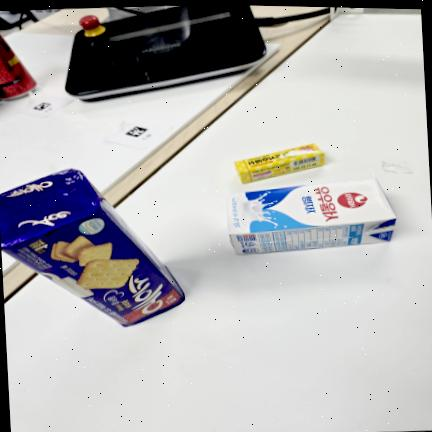cracker_ace: (0, 169, 185, 327)
gum_yellow: (234, 143, 324, 183)
milk_blue: (228, 178, 396, 254)
